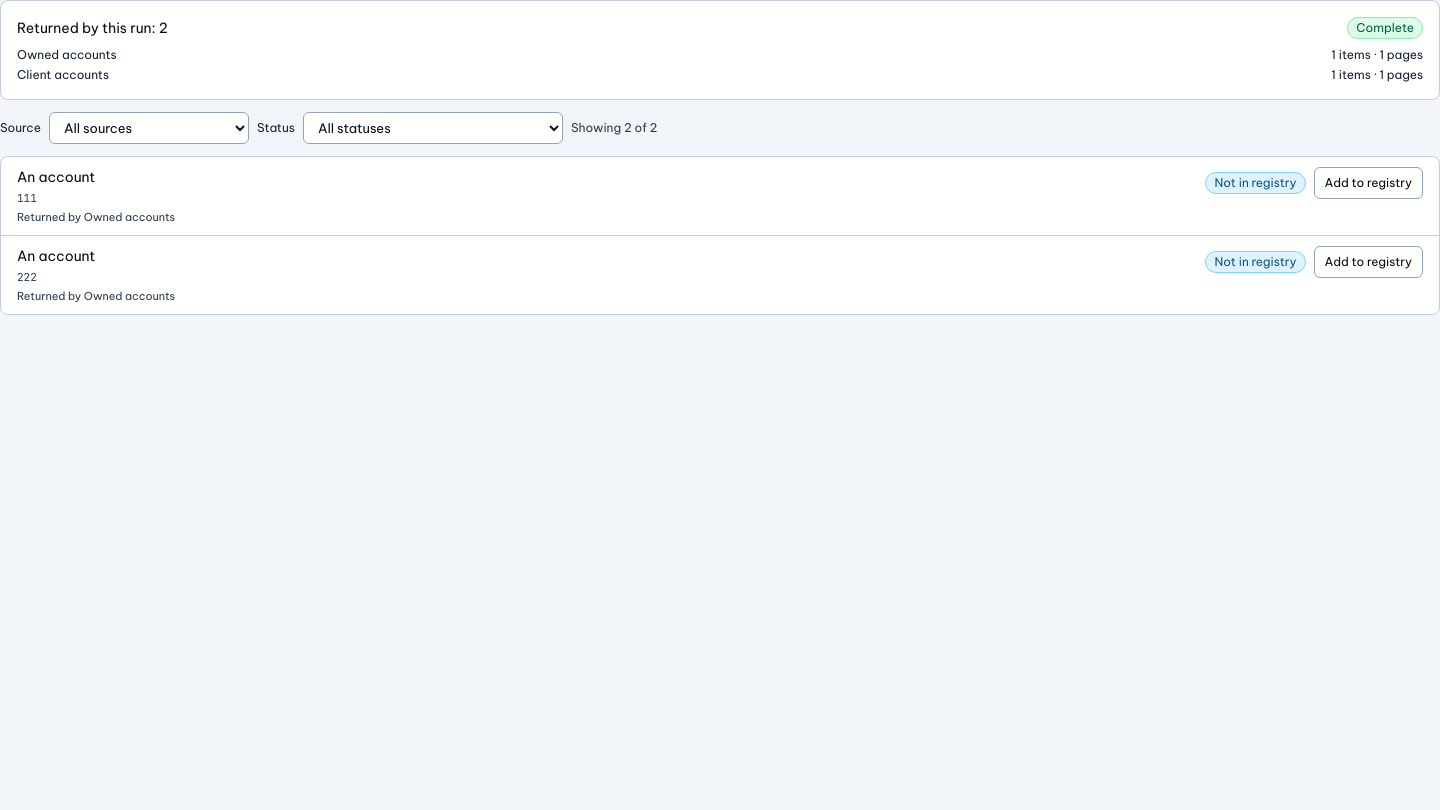
Test: the inventory of one asset type › asks about one row at a time
Click the button "Add to registry" in the row of "111". click: coordinates (1368, 183)
box: x1=1314 y1=167 x2=1423 y2=199
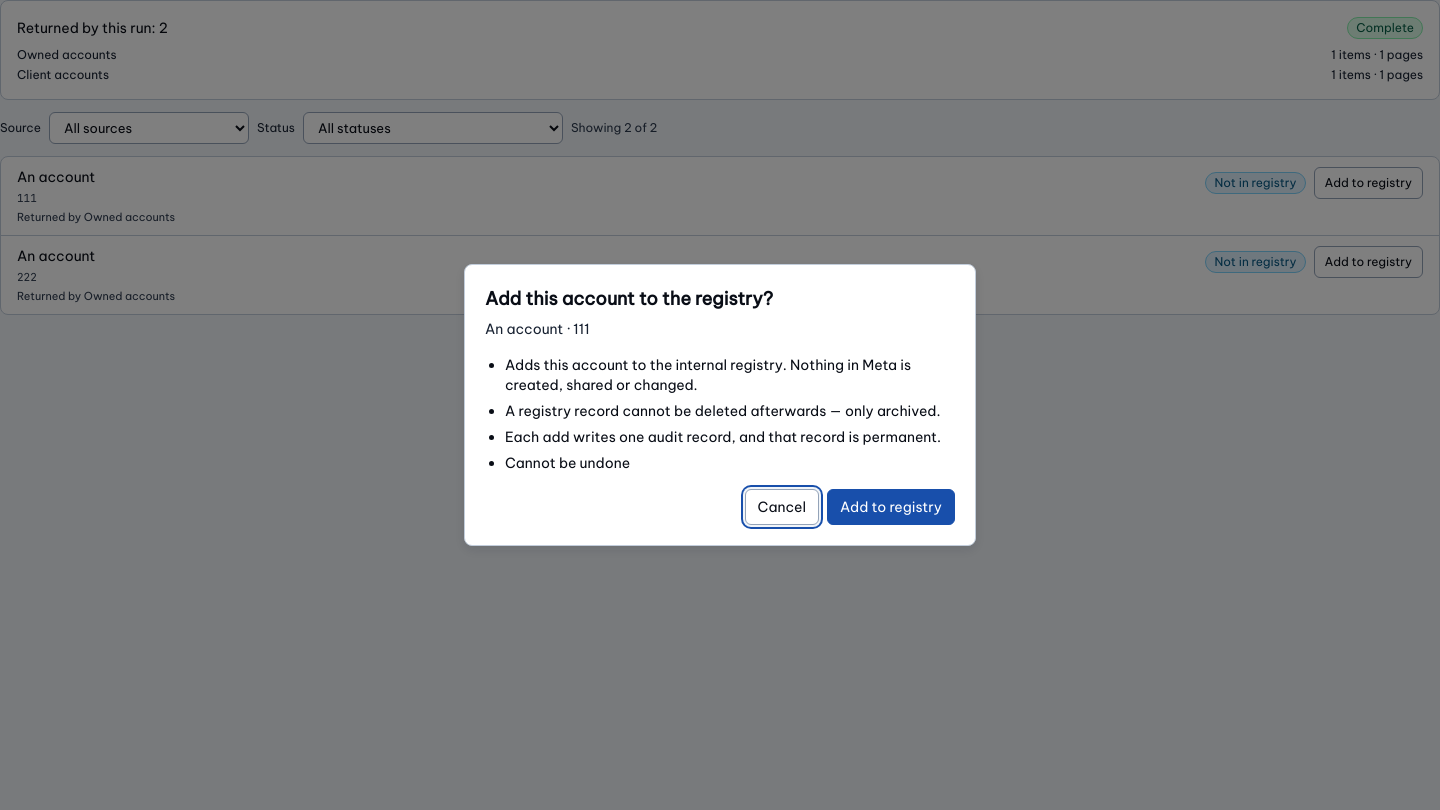
Expected: the number of dialogs is 1, x1=464 y1=264 x2=976 y2=546
Expected: the text "An account · 111" is shown, x1=485 y1=320 x2=590 y2=338
